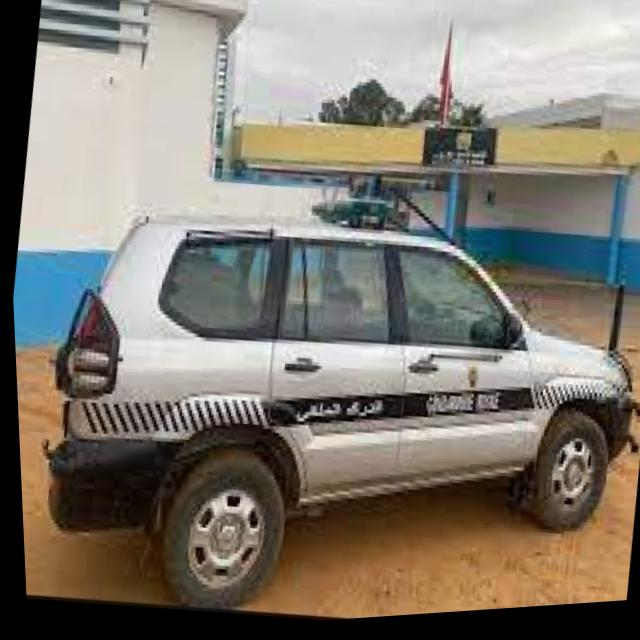gendarme car: (8, 133, 640, 640)
